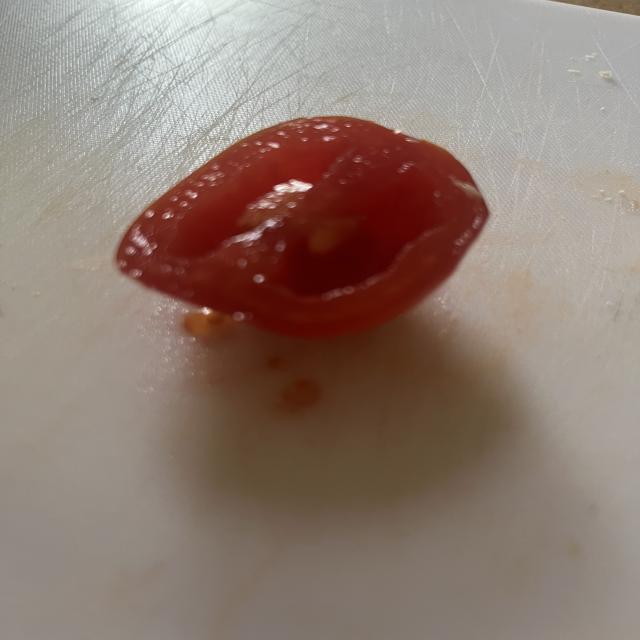sliced_tomato: (117, 116, 488, 337)
